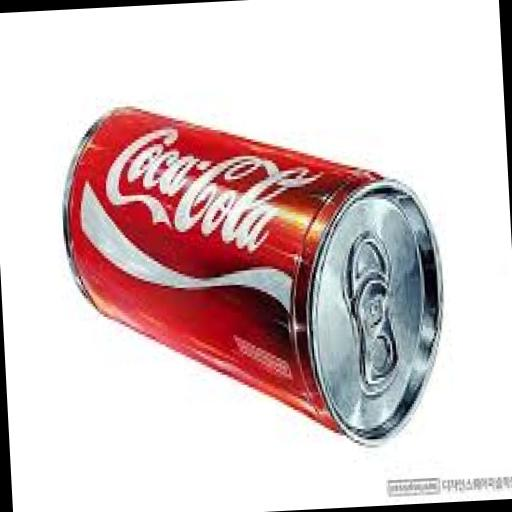Coca: (46, 82, 452, 478)
